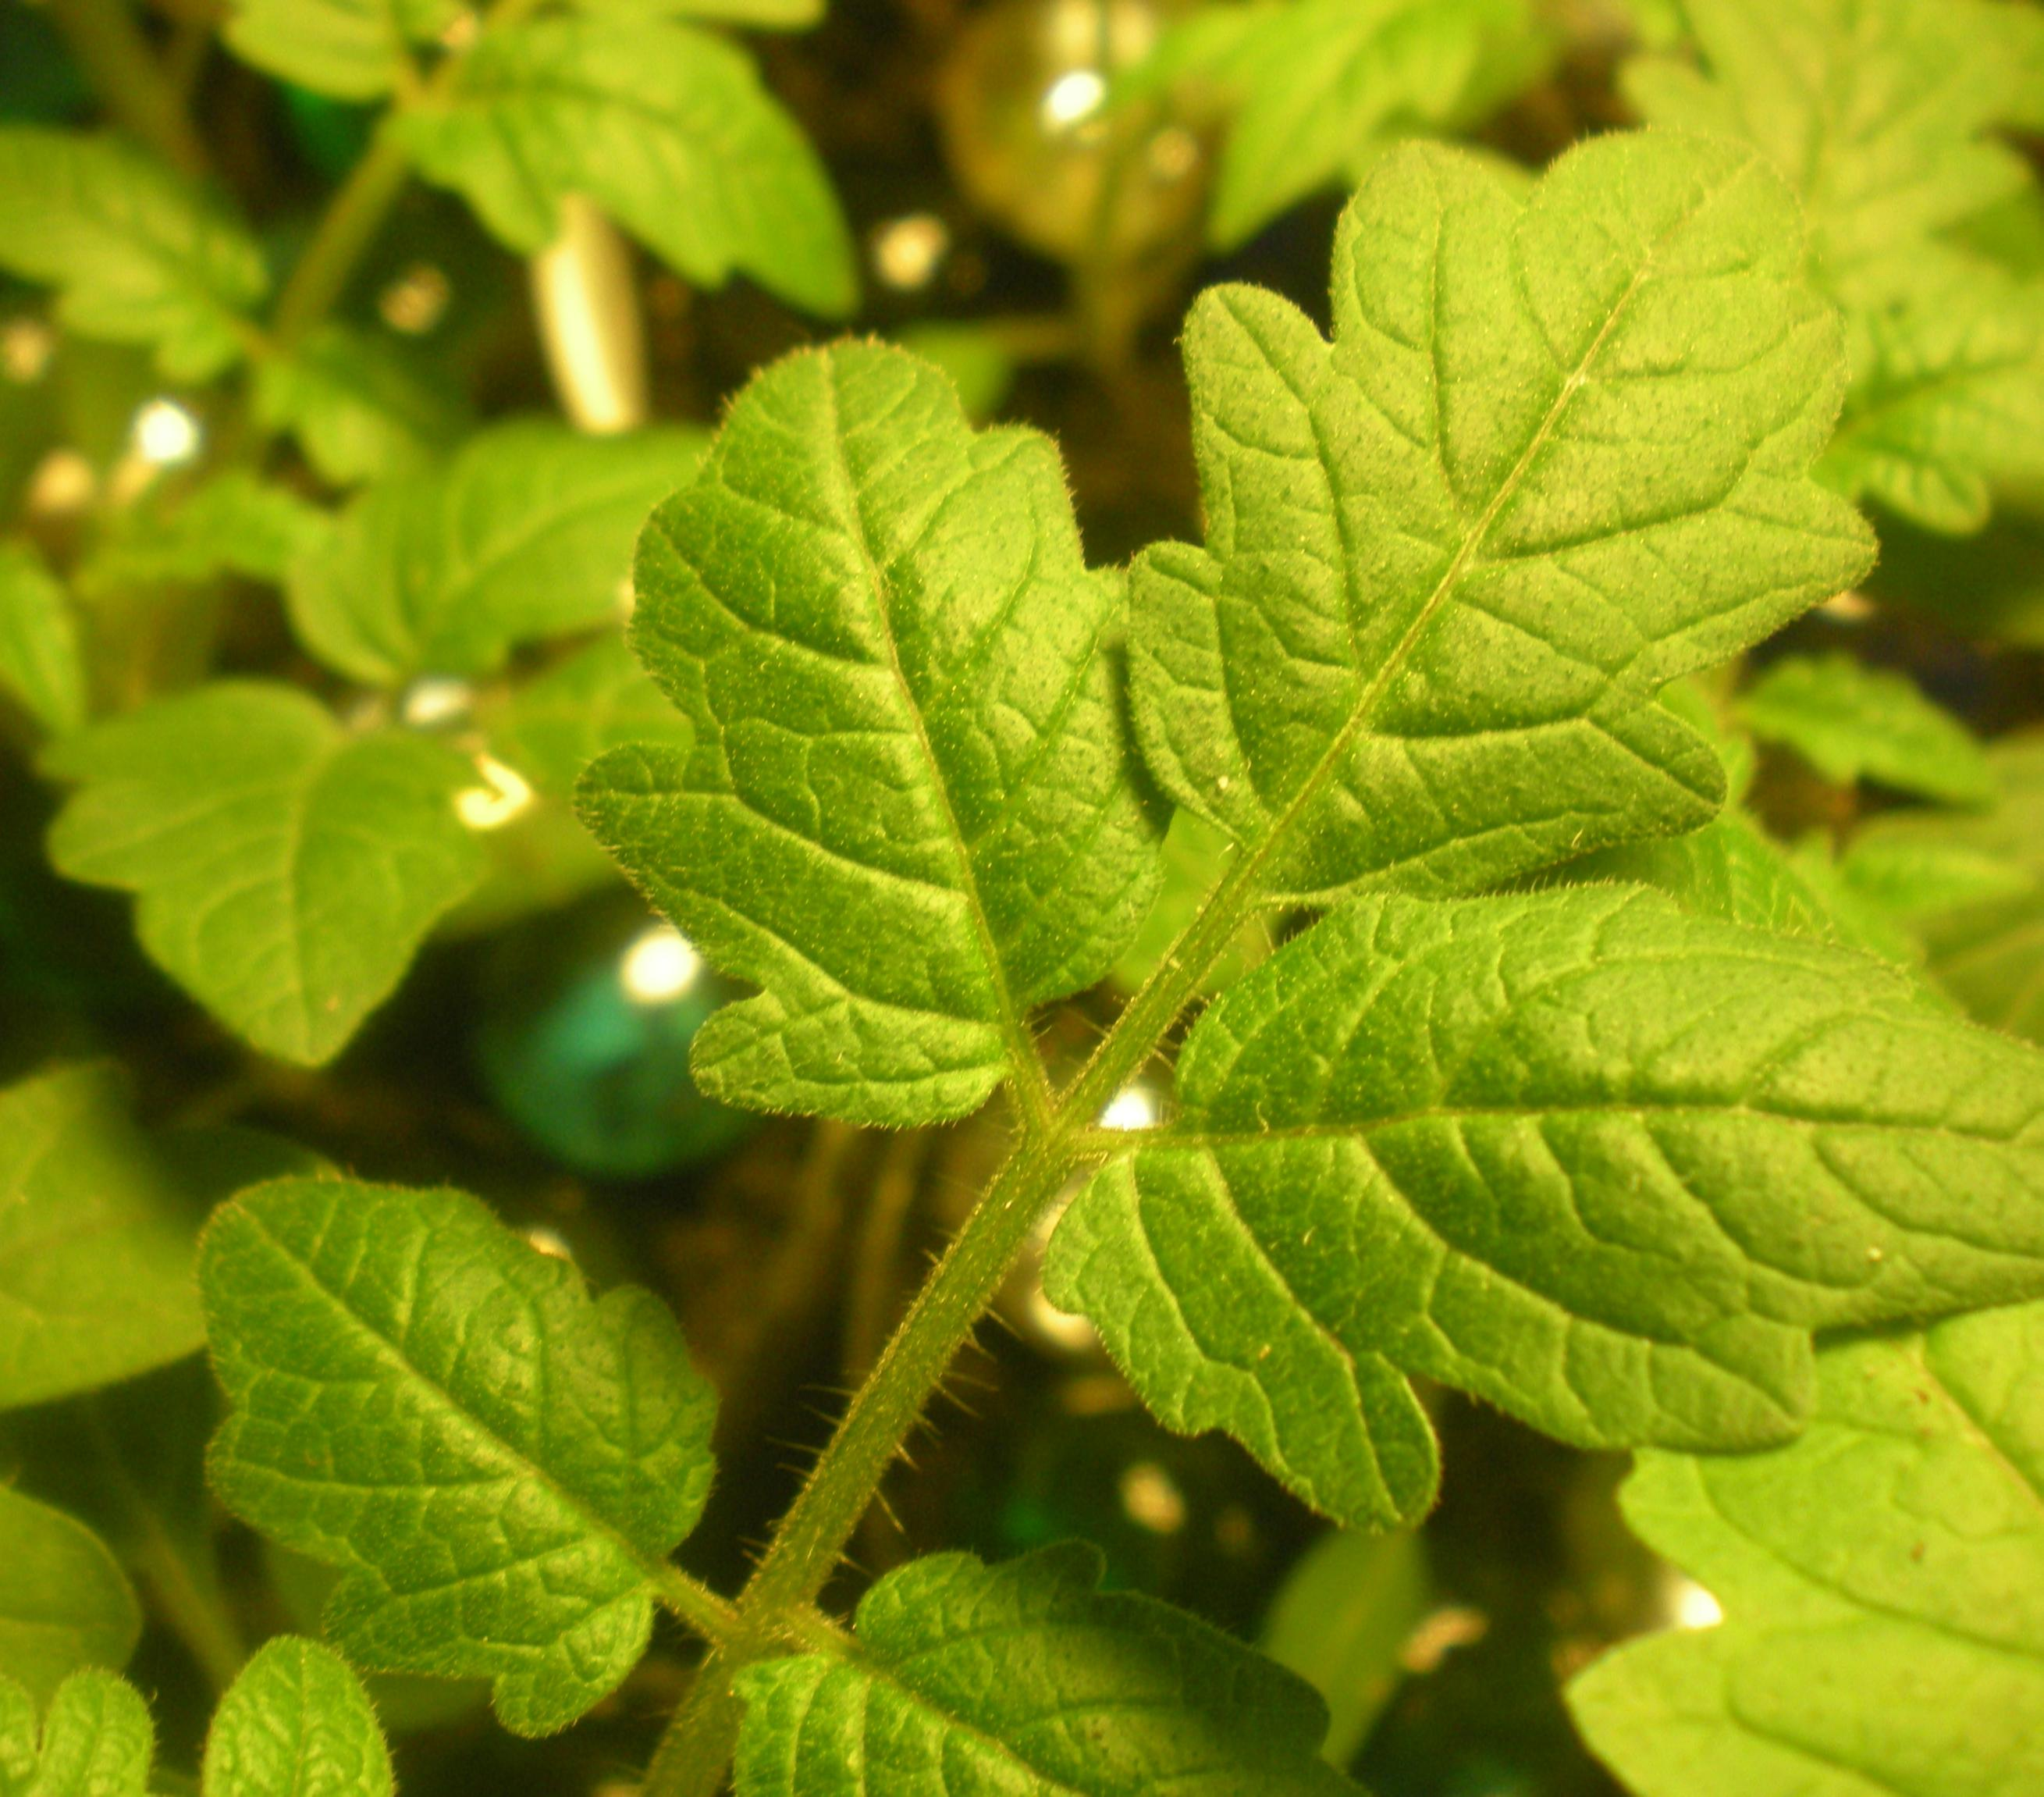Tomato leaf: (1023, 900, 2044, 1518), (1143, 110, 1876, 939), (576, 315, 1197, 1212), (144, 1125, 787, 1686), (720, 1515, 1462, 1797), (36, 671, 540, 1080), (378, 0, 891, 318), (282, 375, 732, 696)
